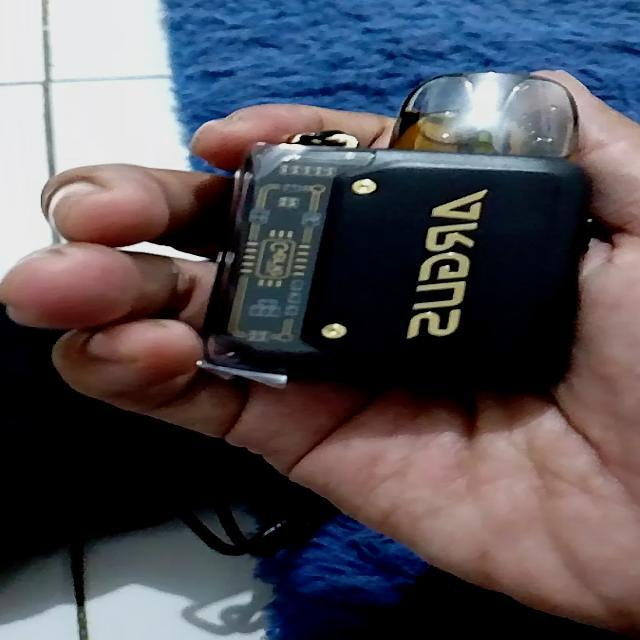Hazard: (192, 67, 596, 396)
